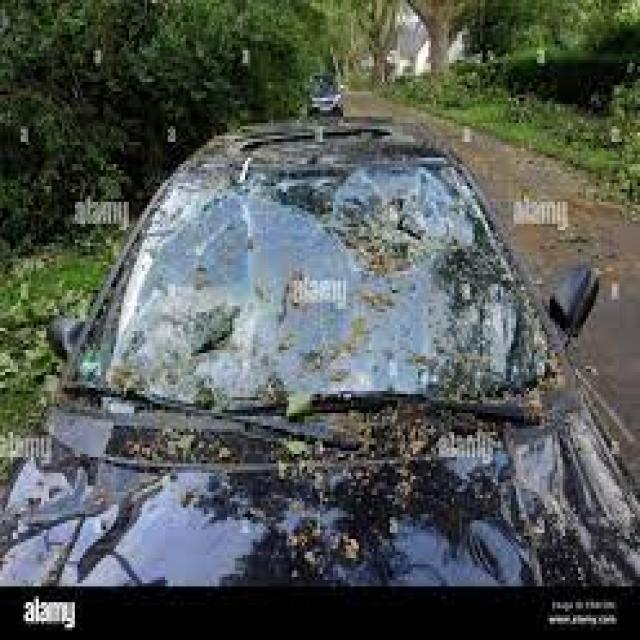damaged-windscreen: (85, 156, 543, 415)
